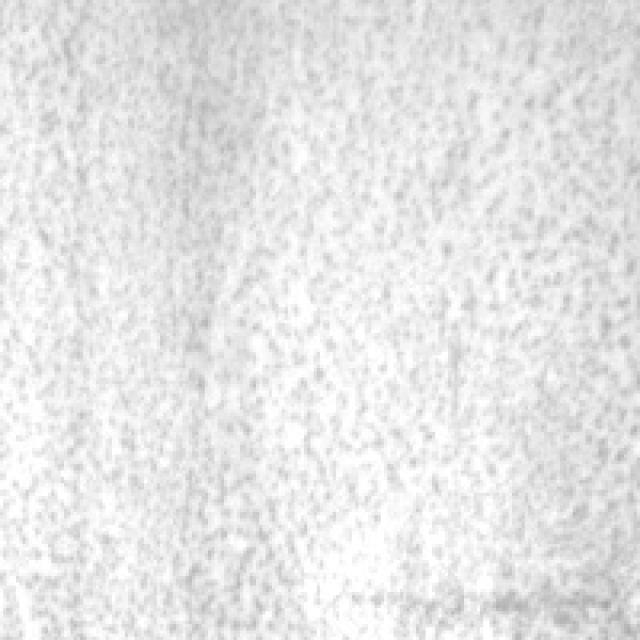pitted_surface: (0, 0, 633, 630)
